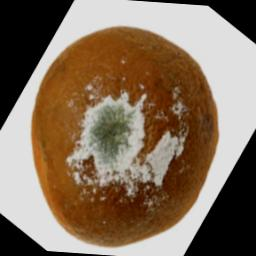Orange Rotten: (3, 0, 256, 256)
